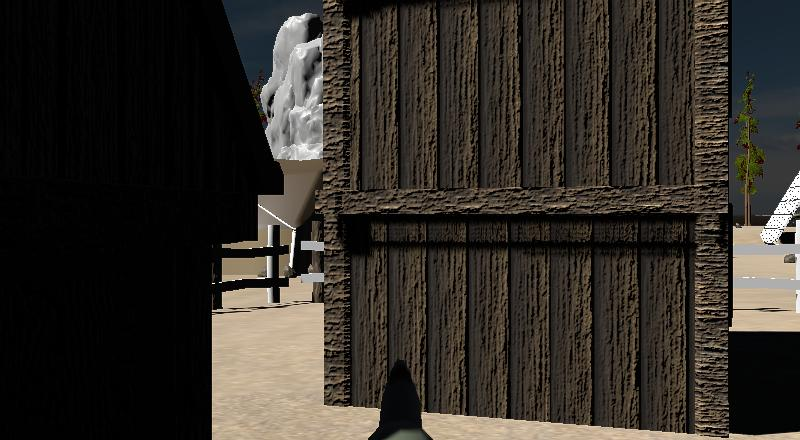House: (317, 0, 736, 437), (0, 0, 245, 440)
